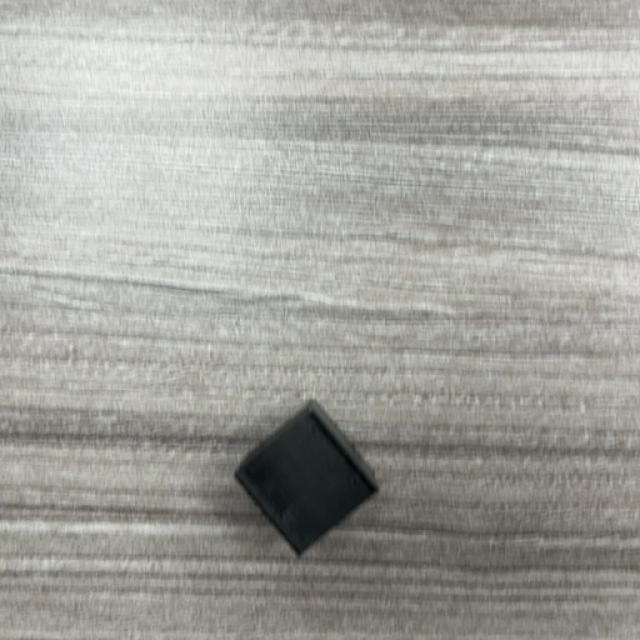Negro: (232, 401, 380, 558)
